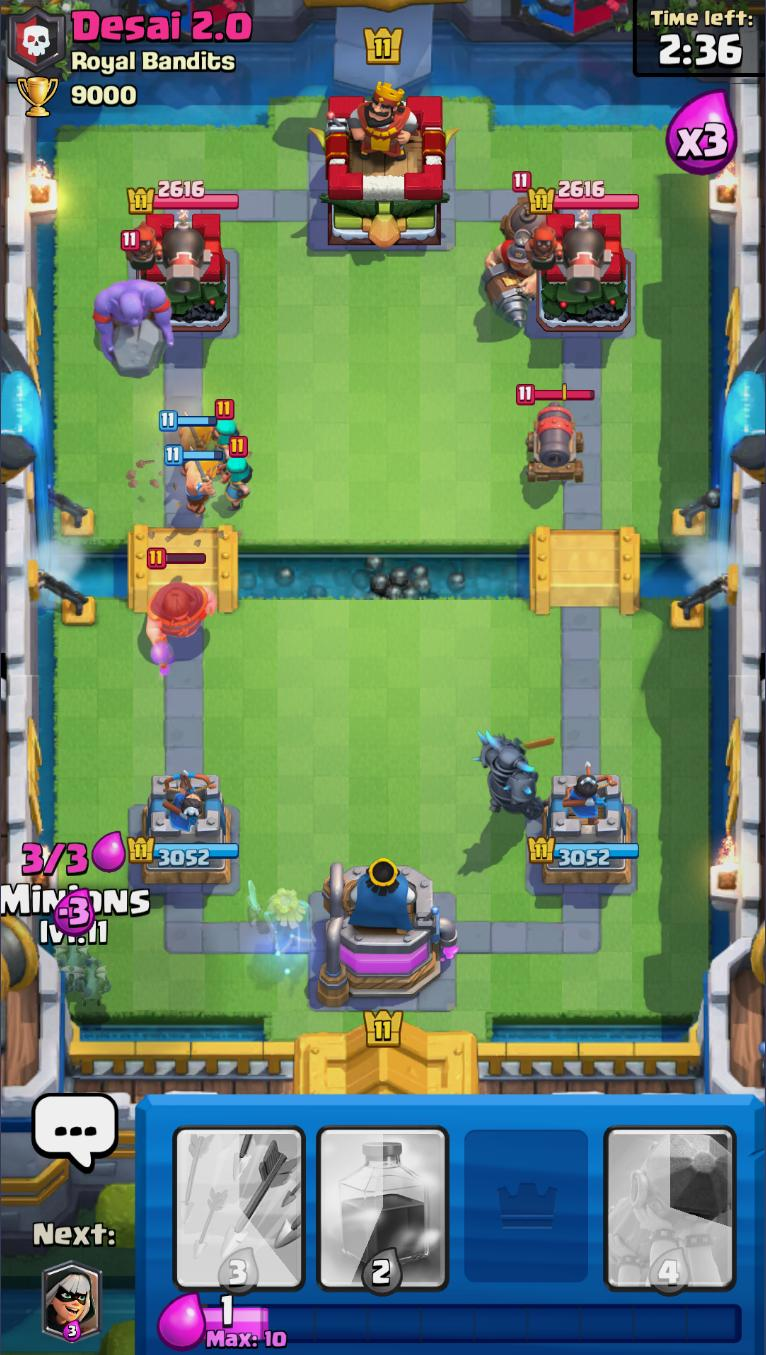ArrowDeck: (168, 1094, 311, 1295)
BanditNext: (40, 1264, 105, 1341)
Bowler: (92, 229, 176, 376)
CannonCart: (514, 383, 596, 483)
Cannoneer: (526, 212, 607, 298), (124, 214, 207, 297)
Elixir: (200, 1296, 745, 1350)
Empty: (456, 1095, 601, 1295)
EnemyTower: (524, 209, 633, 333), (125, 207, 231, 332)
KingTower: (310, 81, 461, 249)
MightyMiner: (479, 170, 560, 327)
MyBarbarian: (162, 444, 227, 516), (158, 409, 218, 457)
MyBattleRam: (600, 1095, 740, 1295)
MyKingTower: (314, 855, 460, 1007)
MyPekka: (475, 728, 557, 820)
MyPrincessTower: (527, 770, 641, 886), (128, 773, 242, 888)
MyPrincessTowerHP: (127, 836, 240, 867), (527, 837, 640, 866)
MyRoyaleGhost: (245, 877, 317, 957)
RageDeck: (310, 1094, 456, 1295)
RascalM: (144, 547, 220, 653)
RascalW: (220, 439, 257, 514), (210, 398, 242, 463)
TowerPrincessHP: (127, 178, 240, 212), (529, 179, 641, 211)
